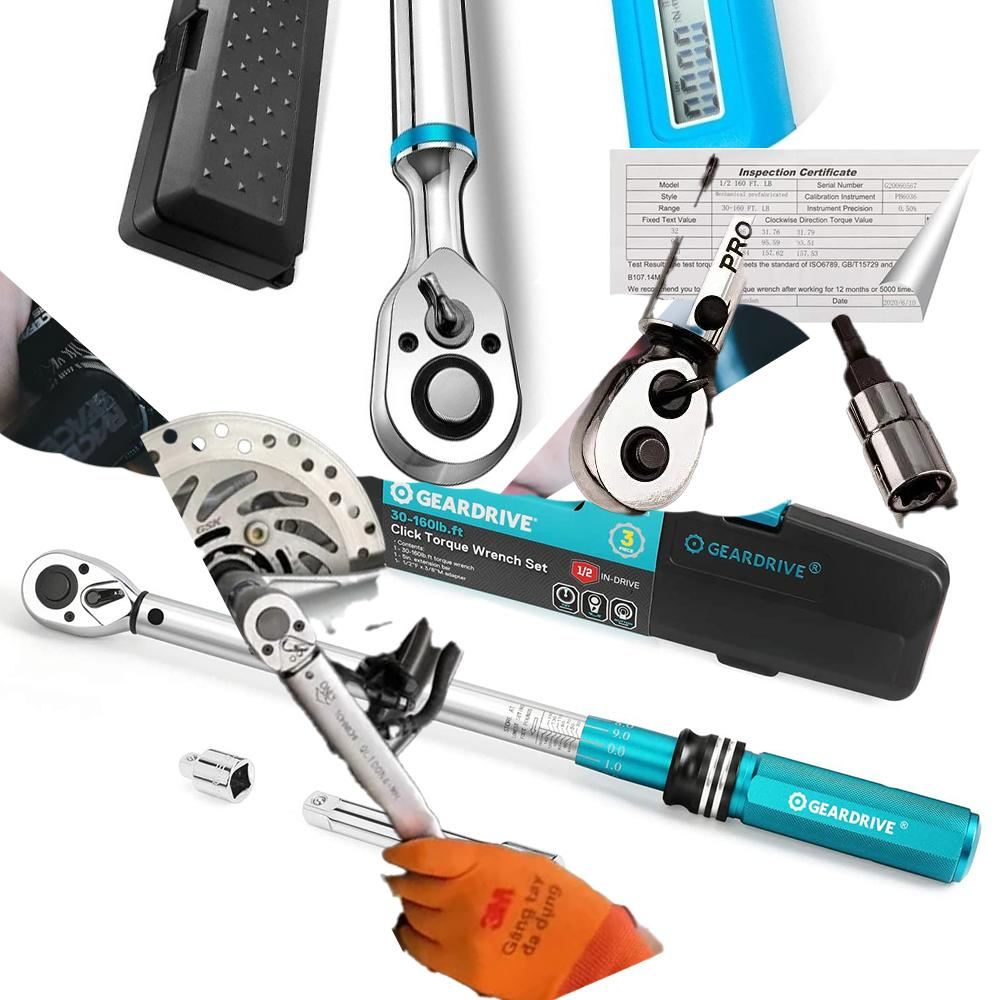Tool: (360, 248, 548, 475), (578, 330, 717, 505), (16, 546, 151, 642), (236, 589, 314, 675)
